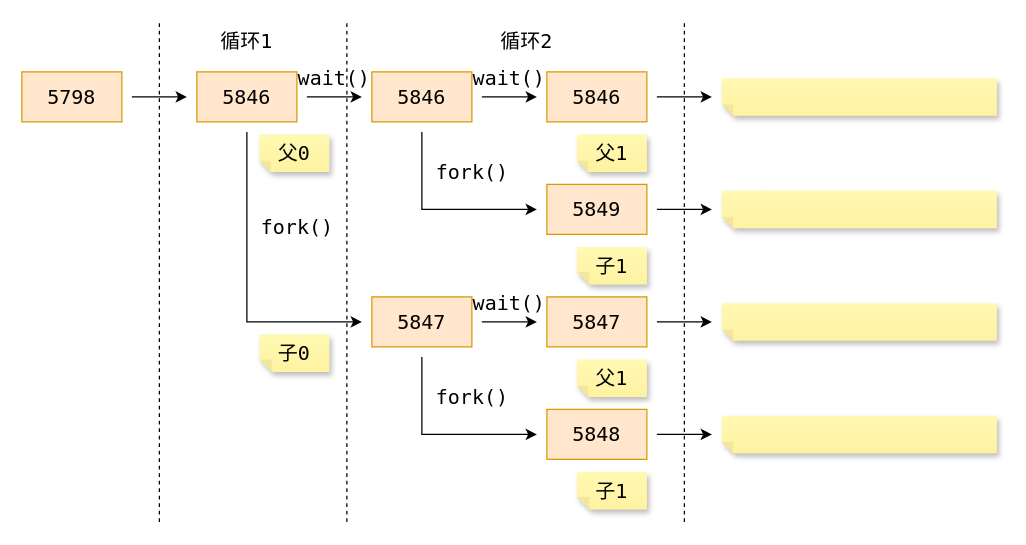
This 1026x545 diagram has some shape labels left out. Here are the shapes that lost their labels. From the top down, the centre of each, then its label:
(860,98): finish 5846 第四结束
(860,210): finish 5849 第三结束
(860,323): finish 5847 第二结束
(860,435): finish 5848 第一结束
